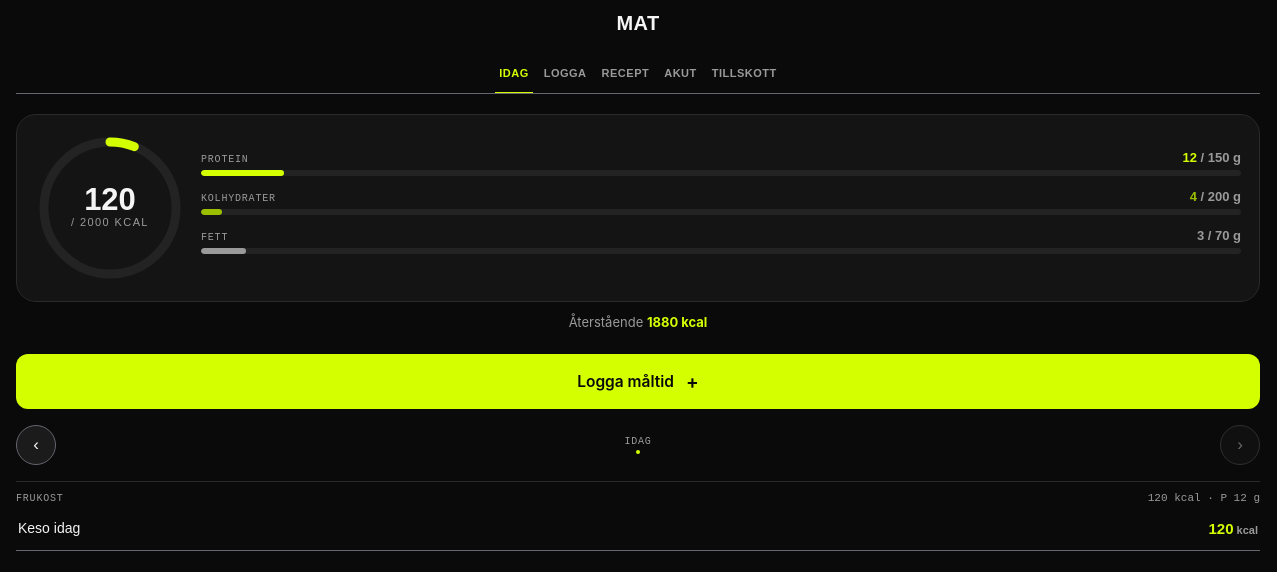
Test: matvyn: dagsväljare och flytt › totalerna följer den valda dagen
Click the button "‹" at (36, 445), box [16,425,56,465]
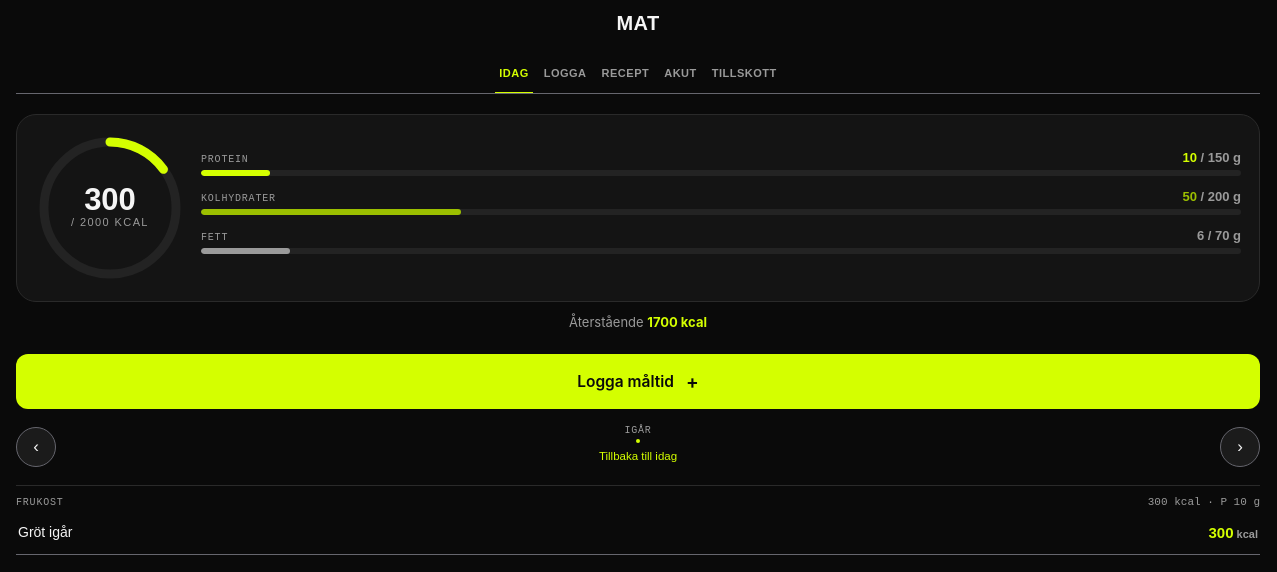
Result: the text "300" is shown at [84,182,136,217]
